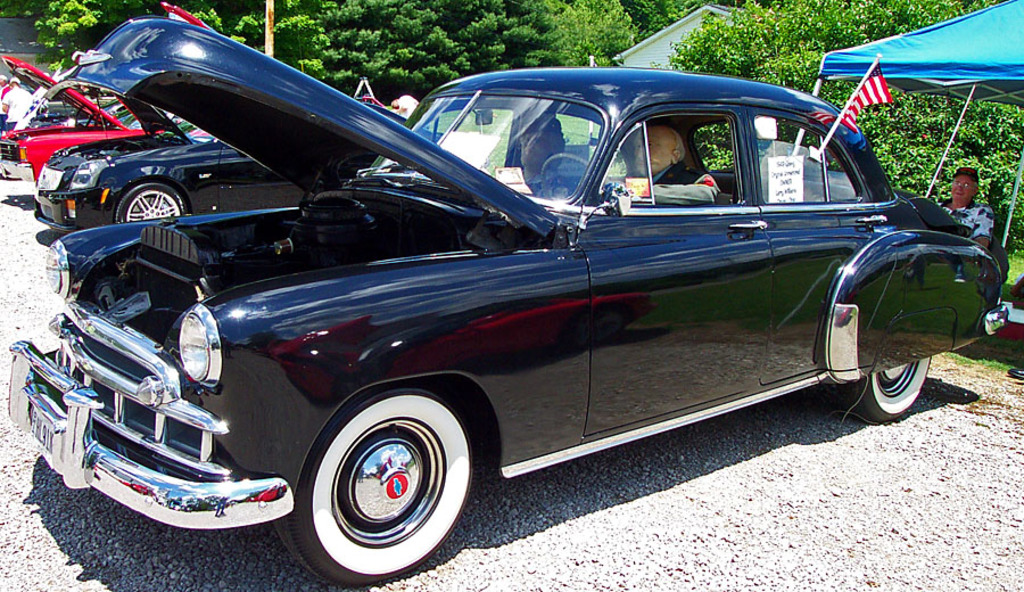Car: (0, 0, 1000, 585)
